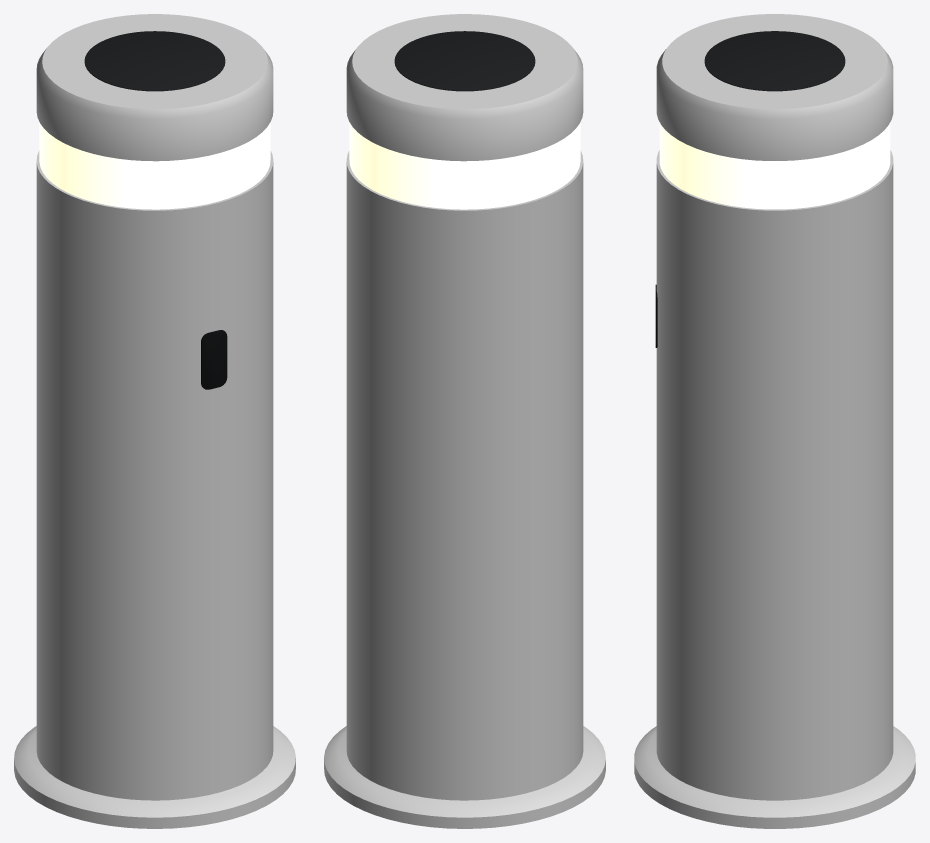
The model's file is HY505RWLAH.glb.
The picture shows the model from 3 angles, left to right: view 1: azimuth 30°, elevation 25°; view 2: azimuth 150°, elevation 25°; view 3: azimuth 270°, elevation 25°; orthographic projection.
Visible parts, largest first — view 1: HY505RWLAH; view 2: HY505RWLAH; view 3: HY505RWLAH.
Part boxes in pixels (x1,y1,x2,y2): HY505RWLAH: [14, 14, 295, 828]; HY505RWLAH: [324, 14, 605, 828]; HY505RWLAH: [634, 14, 915, 828].
Size of the model in its own units: 0.27 by 0.75 by 0.27.
